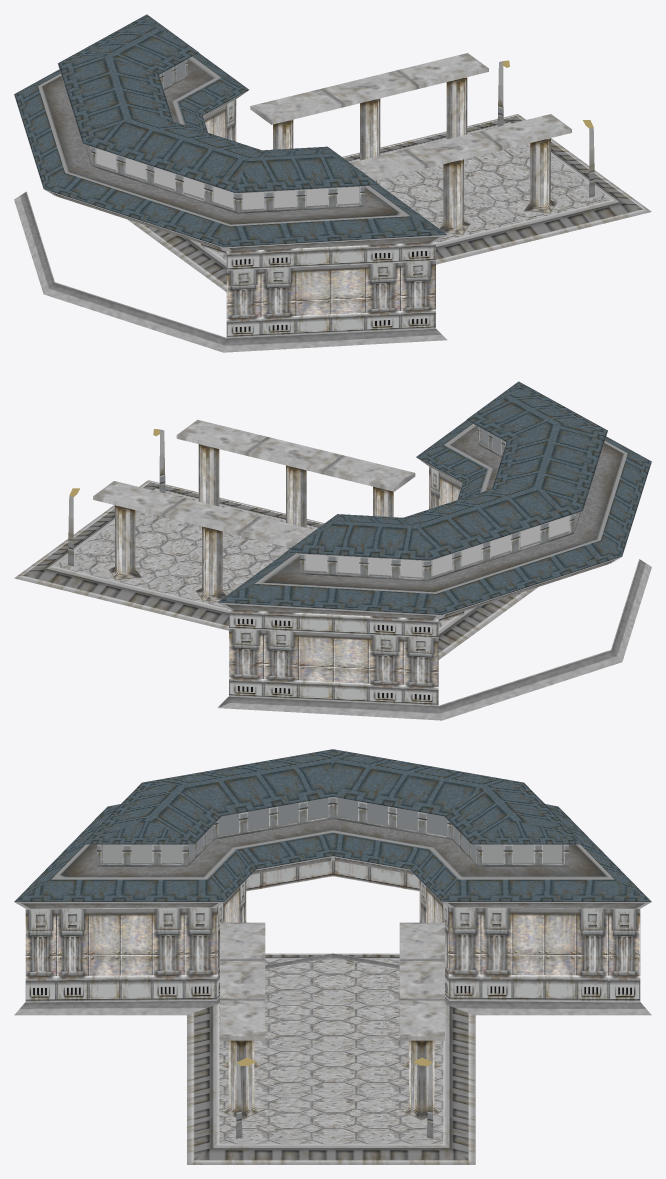
The model's file is s_quetragon.glb.
3 renders of one model, top to bottom at view 1: azimuth 30°, elevation 25°; view 2: azimuth 150°, elevation 25°; view 3: azimuth 270°, elevation 25°, orthographic. The views are drawn at different scales.
Visible parts, largest first — view 1: S_Quetragon, LitWin_S_Quetragon; view 2: S_Quetragon, LitWin_S_Quetragon; view 3: S_Quetragon, LitWin_S_Quetragon.
Part boxes in pixels (bbox=[...]): S_Quetragon: bbox=[14, 14, 651, 352]; LitWin_S_Quetragon: bbox=[90, 60, 359, 209]; S_Quetragon: bbox=[14, 381, 651, 720]; LitWin_S_Quetragon: bbox=[305, 429, 575, 577]; S_Quetragon: bbox=[14, 749, 651, 1164]; LitWin_S_Quetragon: bbox=[102, 798, 561, 863].
Size of the model in its own units: 37.32 by 10.17 by 35.37.
7 materials, 7 textured.
